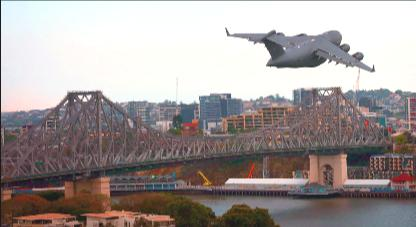C2: (225, 27, 375, 72)
